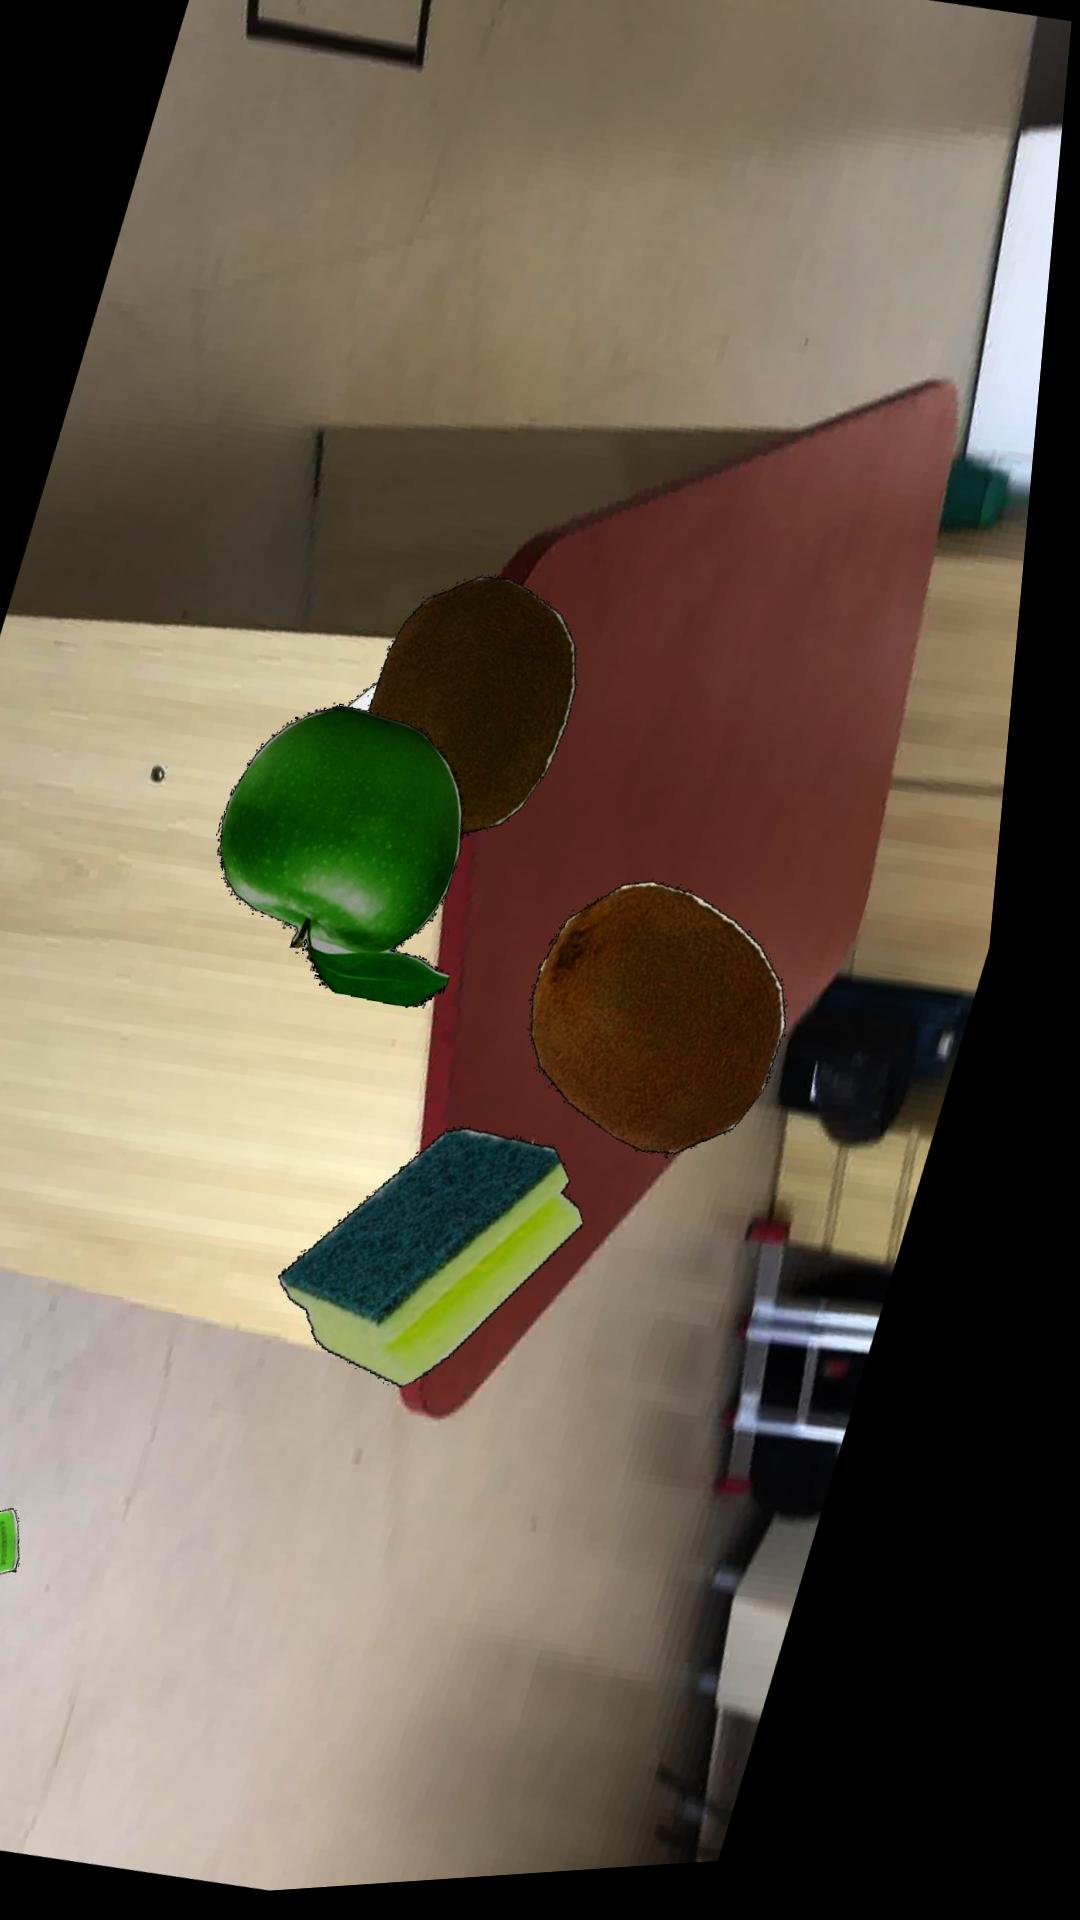green apple: (233, 711, 476, 1017)
kiwi: (546, 893, 804, 1167), (378, 585, 588, 844)
pringles: (0, 1511, 46, 1584)
sponge: (301, 1138, 605, 1396)
